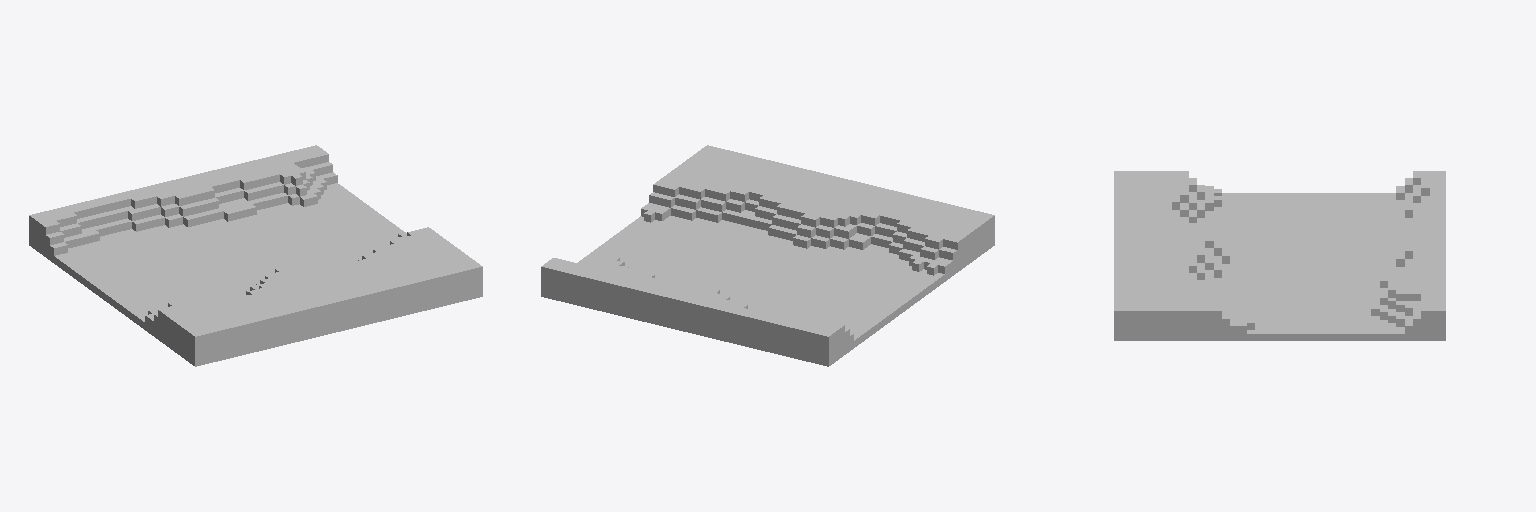
Rendered from River.obj.
3 renders of one model, left to right at view 1: azimuth 30°, elevation 25°; view 2: azimuth 150°, elevation 25°; view 3: azimuth 270°, elevation 25°, orthographic.
Visible parts, largest first — view 1: object 1; view 2: object 1; view 3: object 1.
Boxes of the visible parts, box(x1,y1,x2,y2) form: object 1: box(29, 145, 482, 366); object 1: box(541, 145, 994, 366); object 1: box(1114, 171, 1445, 340).
Bounding box in the file's own units: 4 × 0.4 × 4.